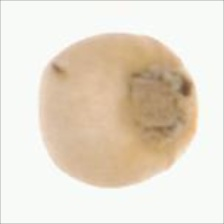L3: (124, 67, 193, 146)
L4: (38, 34, 199, 189)
